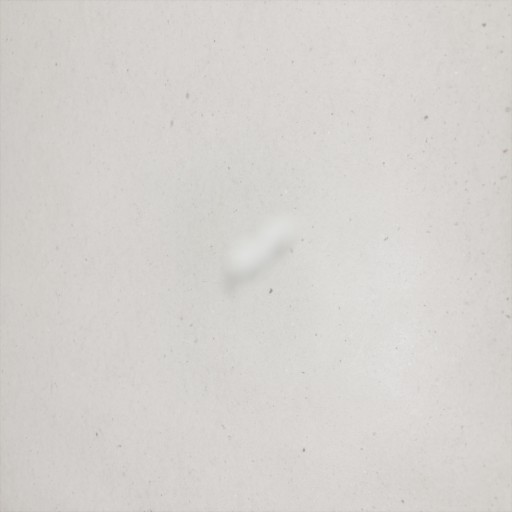lego: (222, 214, 300, 299)
